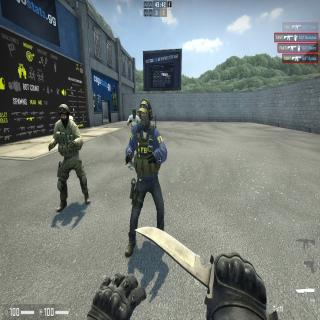CT-Body: (134, 98, 160, 238), (55, 106, 83, 210)
CT-Head: (139, 98, 152, 130), (59, 104, 70, 123)
T-Head: (132, 108, 136, 119)
